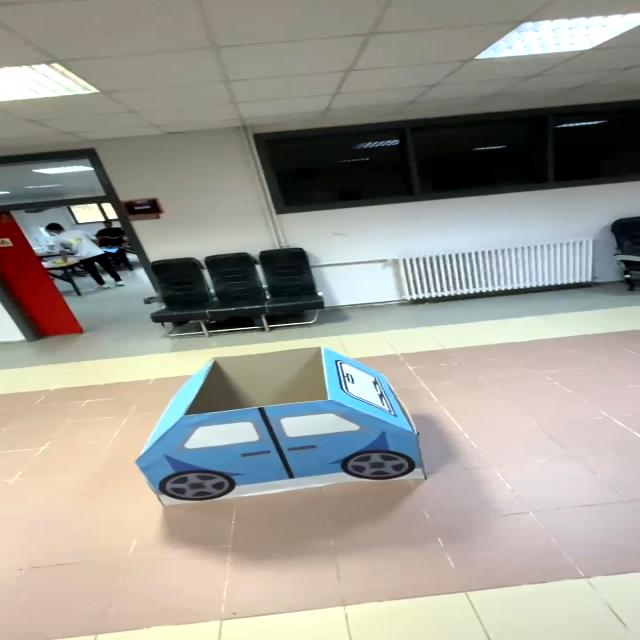blue_car: (98, 341, 469, 505)
